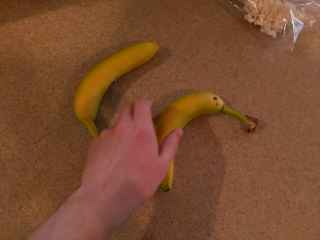banana: (143, 87, 258, 197), (67, 35, 161, 147)
